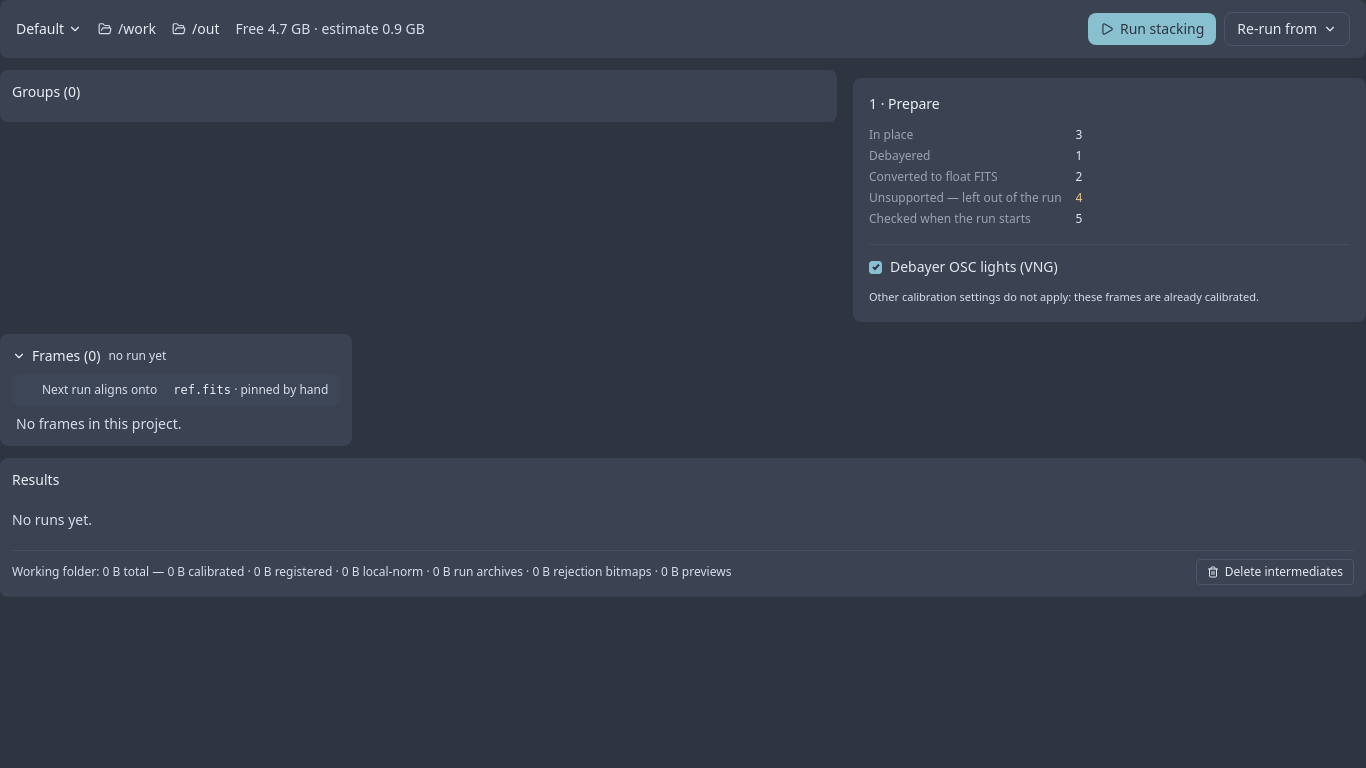
Test: StackingTab Re-run menu › lists Prepare first for a project, no Calibrate, and says every cached stage is reused
Click the button "Re-run from": point(1287, 29) [1224, 12, 1350, 46]
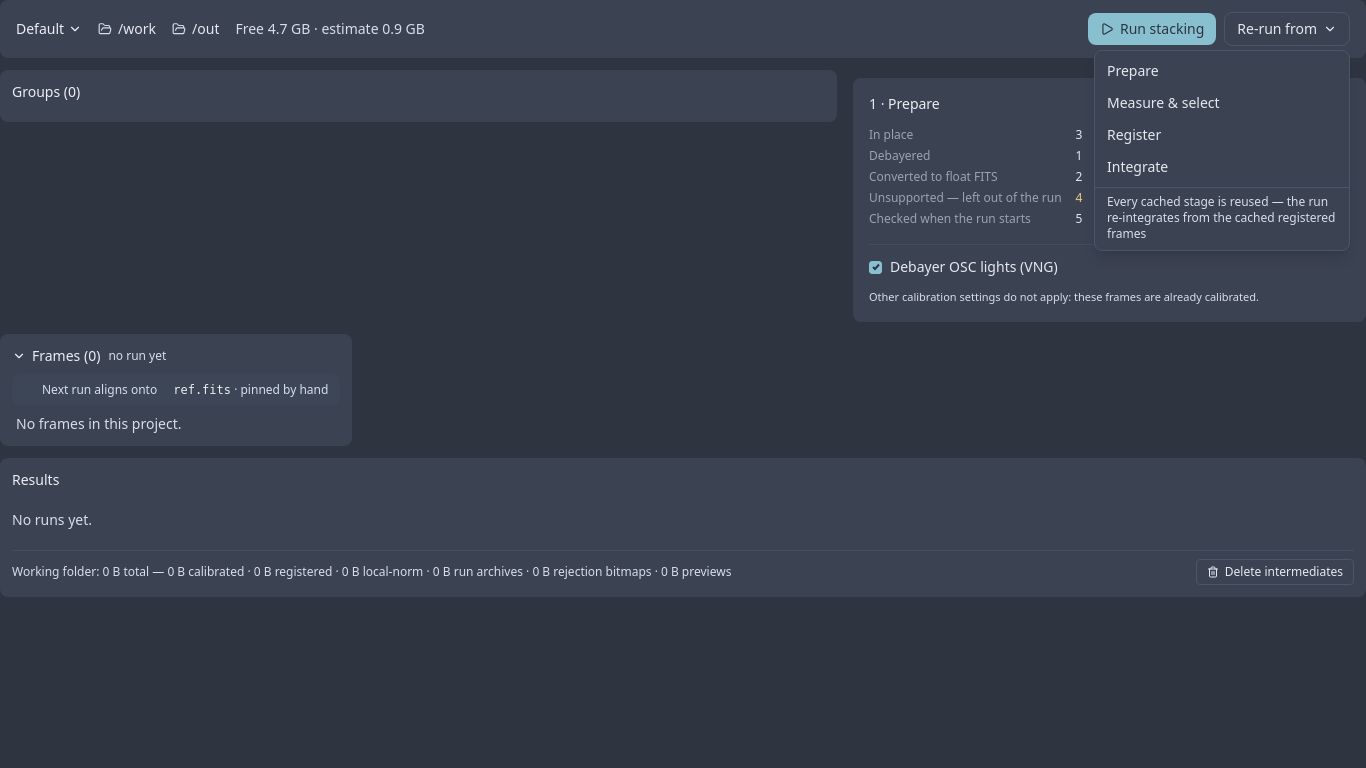
Check: the text "Every cached stage is reused — the run re-integrates from the cached registered frames" is shown, box [1107, 193, 1336, 242]
